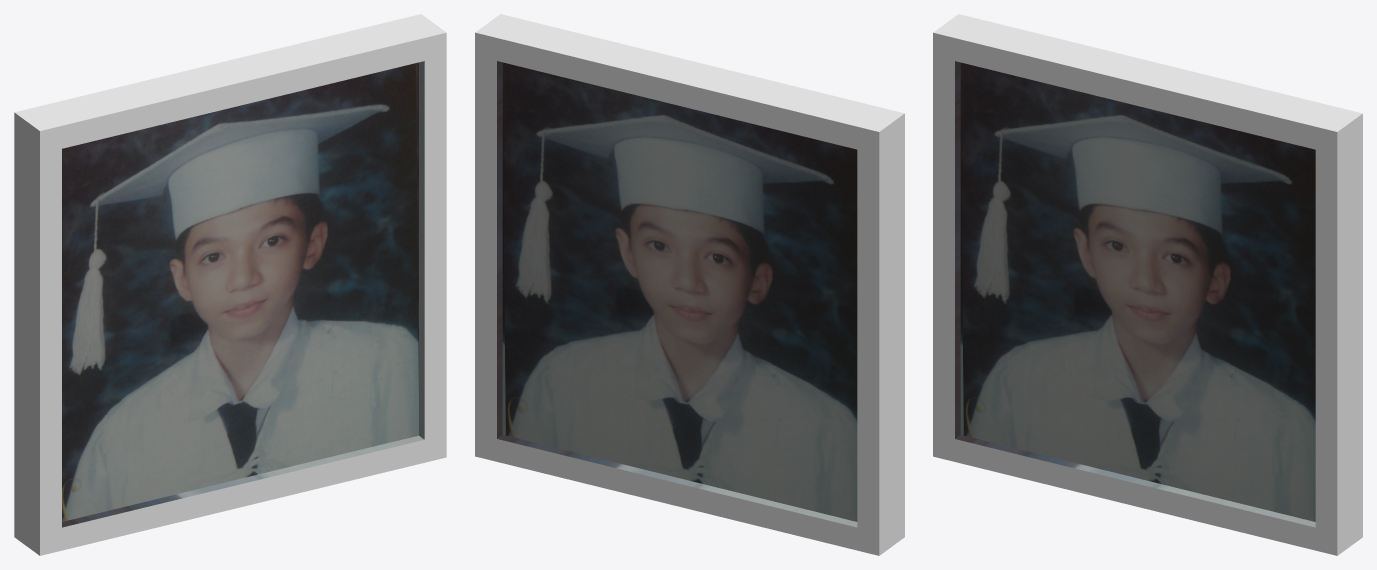
Rendered from pictureFrame.glb.
The picture shows the model from 3 angles, left to right: view 1: azimuth 30°, elevation 25°; view 2: azimuth 150°, elevation 25°; view 3: azimuth 330°, elevation 25°; orthographic projection.
Visible parts, largest first — view 1: Cube001, Cube001_1; view 2: Cube001, Cube001_1; view 3: Cube001, Cube001_1.
Part boxes in pixels (x1,y1,x2,y2): Cube001: (62, 61, 424, 527); Cube001_1: (14, 14, 446, 555); Cube001: (497, 61, 857, 527); Cube001_1: (475, 14, 904, 555); Cube001: (955, 61, 1315, 527); Cube001_1: (933, 14, 1362, 555).
Size of what is drawn, in the model's own units: 1.48 by 1.48 by 0.1663.
2 materials, 1 textured.
